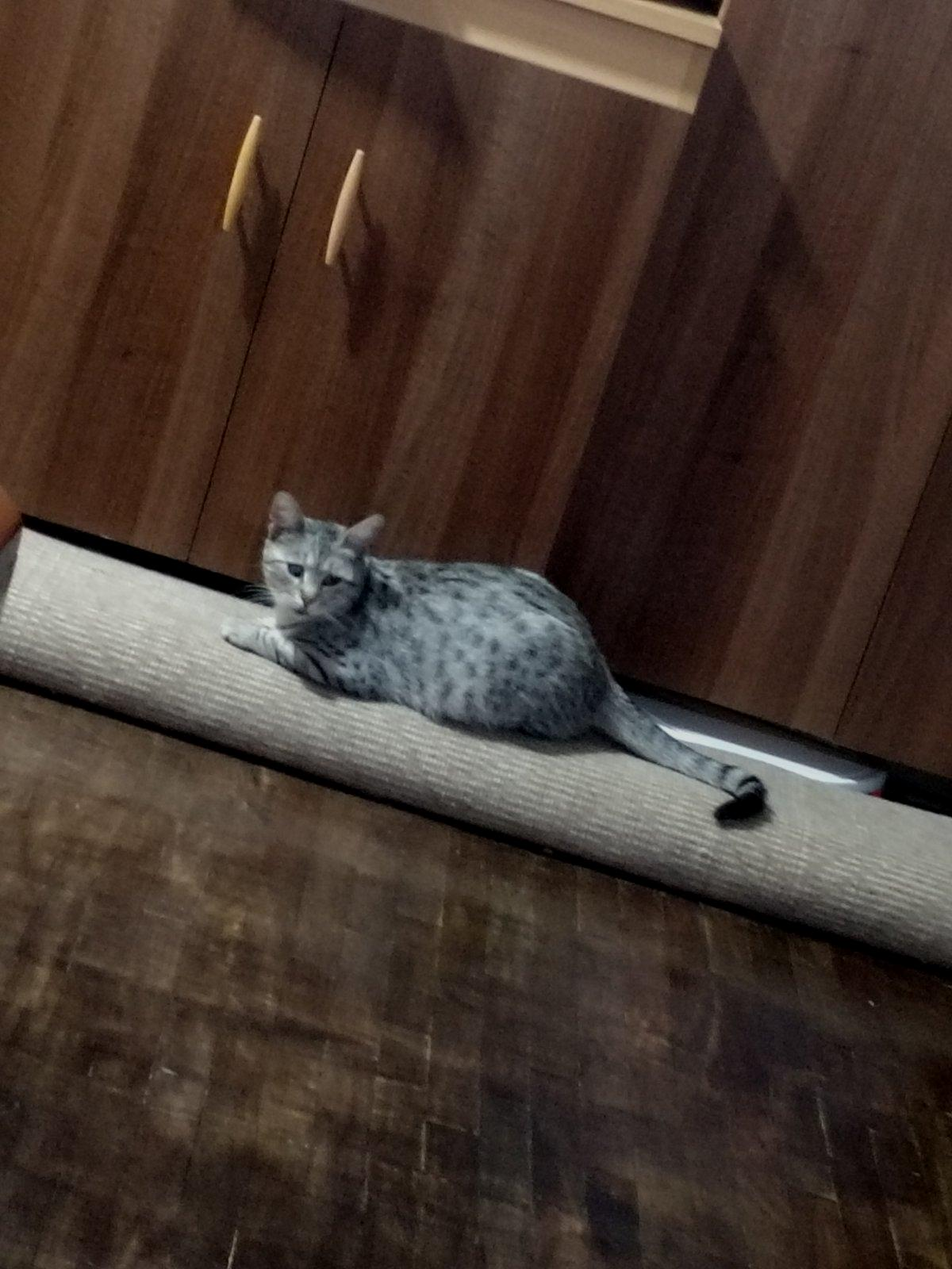macka: (218, 483, 780, 836)
